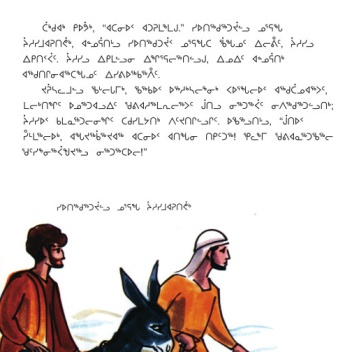inuktitut: (21, 32, 315, 49), (19, 96, 337, 111), (19, 128, 335, 142), (20, 48, 286, 64), (37, 16, 285, 33), (39, 80, 330, 94), (19, 111, 308, 125), (19, 64, 160, 81), (18, 143, 149, 158), (52, 199, 193, 211)
